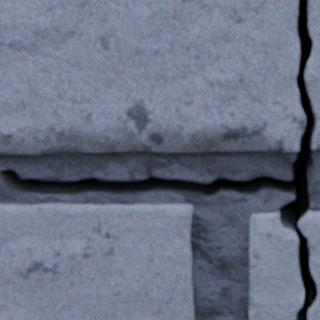brick: (0, 202, 195, 319)
broken_brick: (0, 0, 305, 154), (249, 211, 304, 319), (298, 210, 319, 319), (304, 0, 319, 149)
crack: (0, 0, 317, 319)
